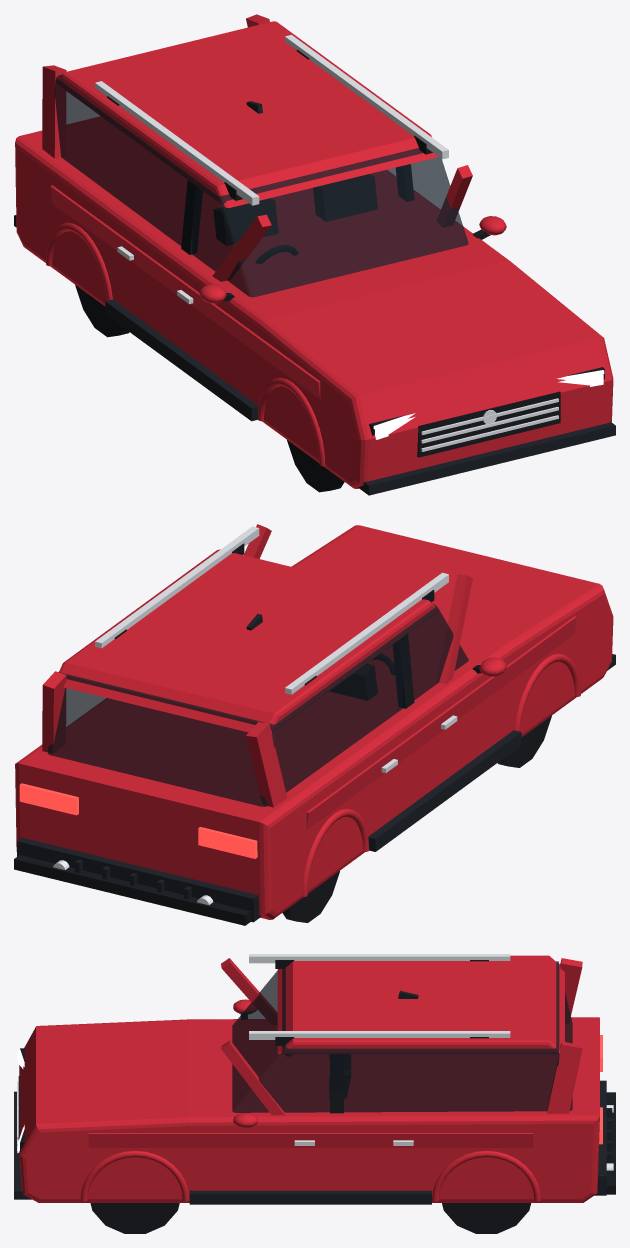
The model's file is car_suv.glb.
3 views of the same model, one above another, from view 1: azimuth 30°, elevation 25°; view 2: azimuth 150°, elevation 25°; view 3: azimuth 270°, elevation 25° (orthographic). The views are drawn at different scales.
Parts seen in each view (by area): view 1: car_suv; view 2: car_suv; view 3: car_suv.
Part boxes in pixels (left/top/right/bottom): car_suv: left=14, top=14, right=615, bottom=495; car_suv: left=14, top=524, right=615, bottom=925; car_suv: left=14, top=954, right=615, bottom=1233.
Size of the model in its own units: 2.44 by 1.85 by 5.07.
